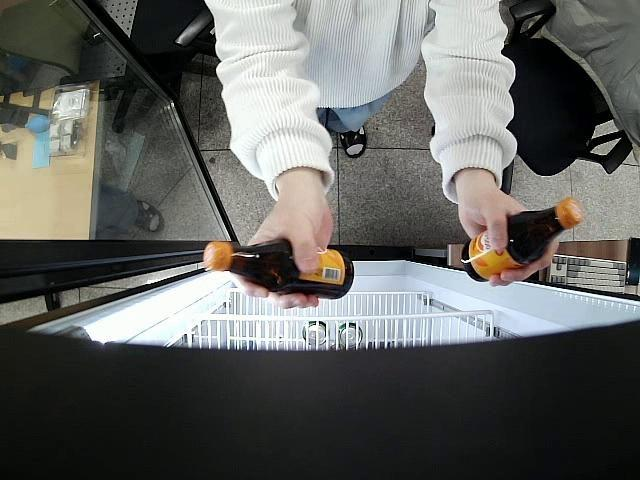17_vita500: (461, 197, 580, 282), (204, 236, 356, 299)
